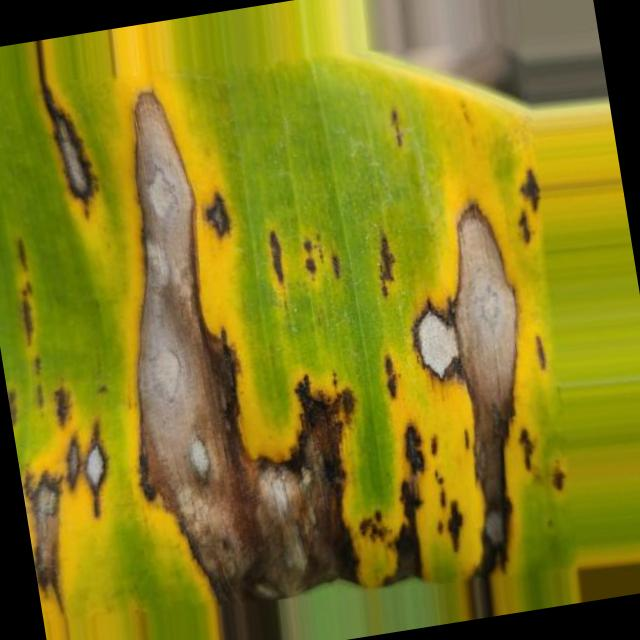Banana_Yellow_Sigatoka: (78, 1, 640, 640), (0, 252, 154, 610), (8, 32, 126, 252)
